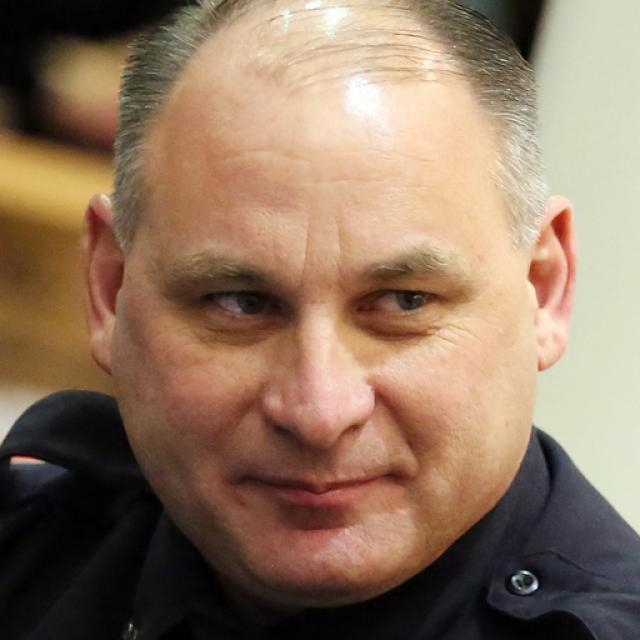content: (120, 72, 528, 598)
